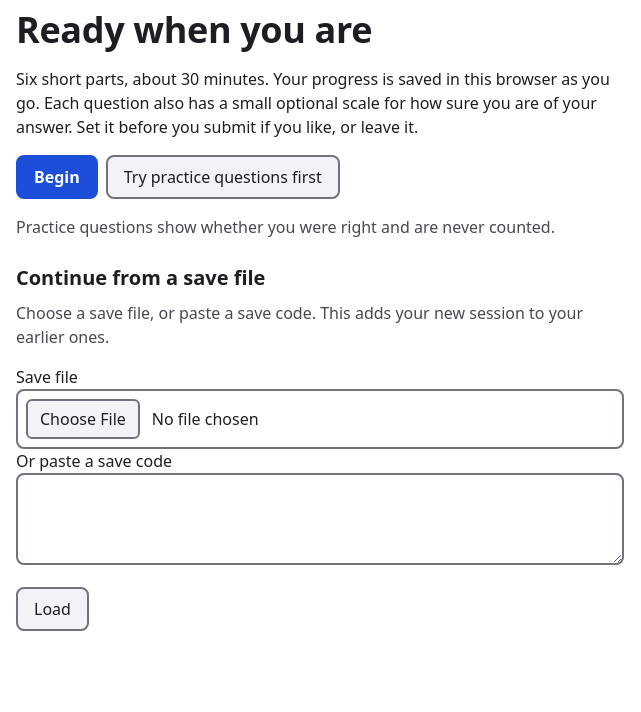
Test: Ready: a chosen file is never silently left unread (UX-012a) › a bad code is one alert tied to the code box; typing again drops the message about the old text
In the text box labelled "Or paste a save code": (320,519) [16,473,624,565], type "hello there"
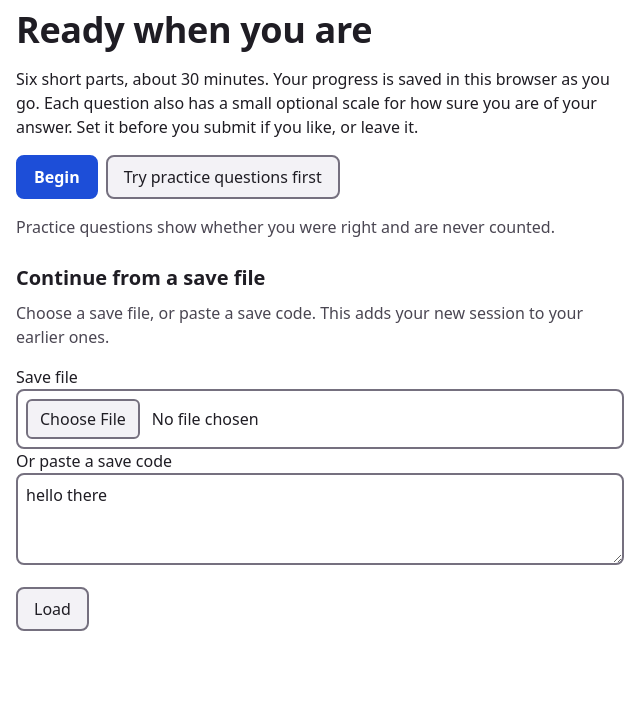
Click the button "Load": (52,609) [16,587,89,631]
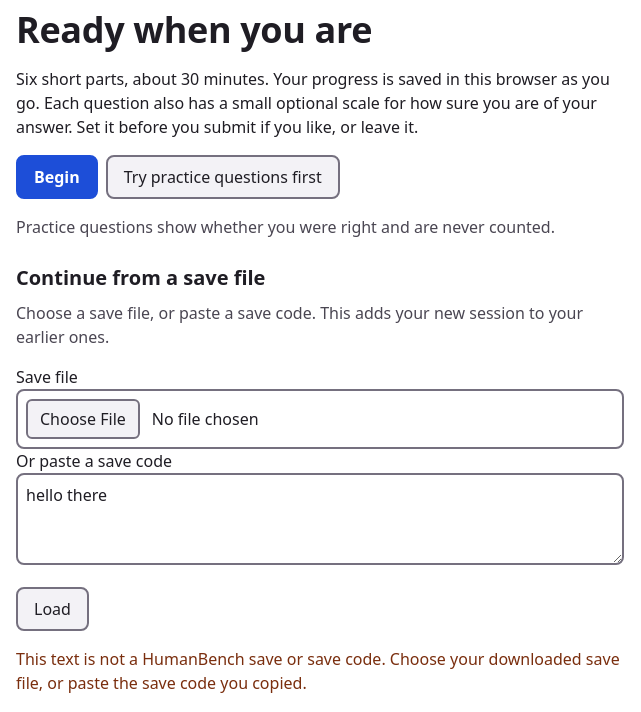
Now the message shows "not a HumanBench save", box [16,648,620,694]
Now the number of messages is 1, box [16,647,624,695]
Replace the text in the text box labelled "Or paste a save code" with "hello there again": (320,519) [16,473,624,565]
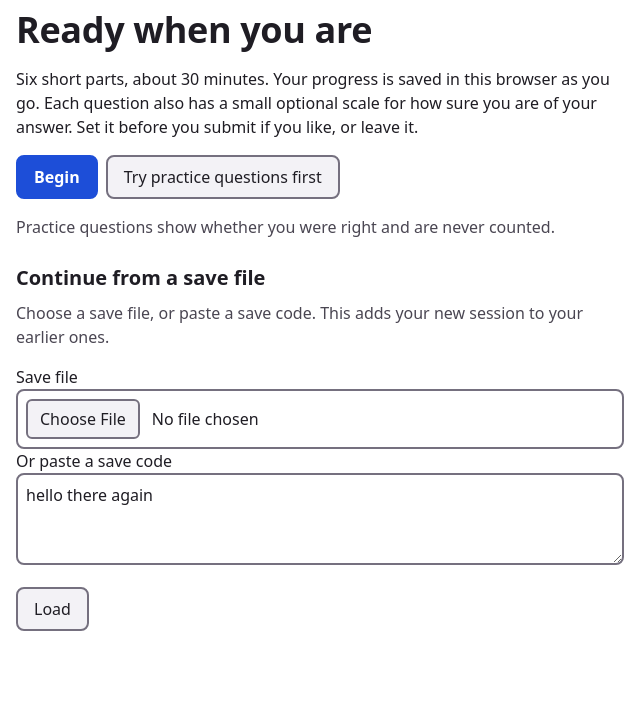
Now the message is gone
